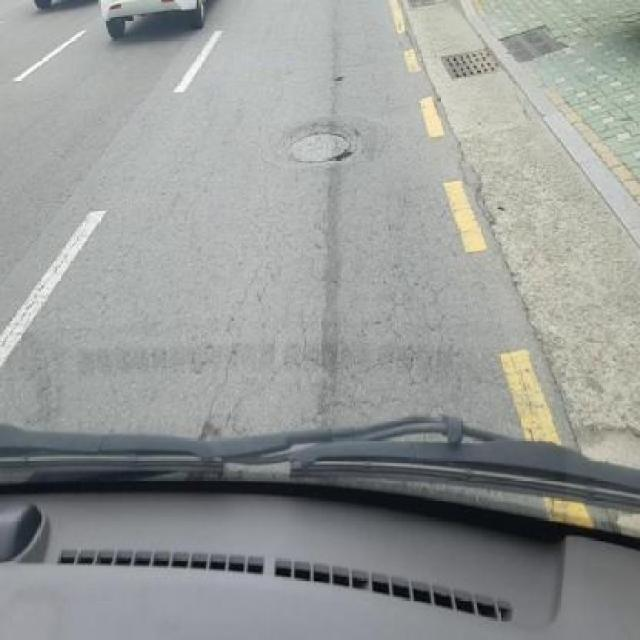Manhole: (498, 22, 568, 64), (284, 128, 354, 164), (440, 49, 500, 81), (402, 0, 445, 9)
Pothole: (575, 412, 640, 468), (333, 149, 352, 162), (331, 72, 347, 83)
